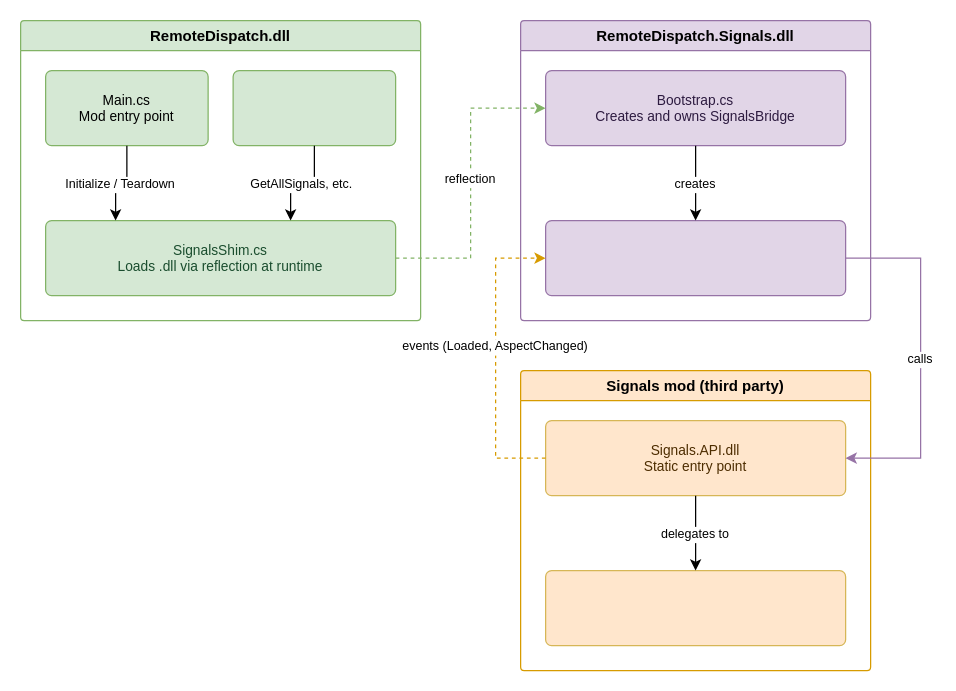
Image size: 956x691. Some labels were removed from this diagram. Each missing label, with the box of its shape:
Rest of mod Calls SignalsShim: (232, 69, 396, 146)
SignalsBridge.cs Wraps Signals.API calls: (544, 219, 846, 296)
Witchcraft and Voodoo We don't go here: (544, 569, 846, 646)
